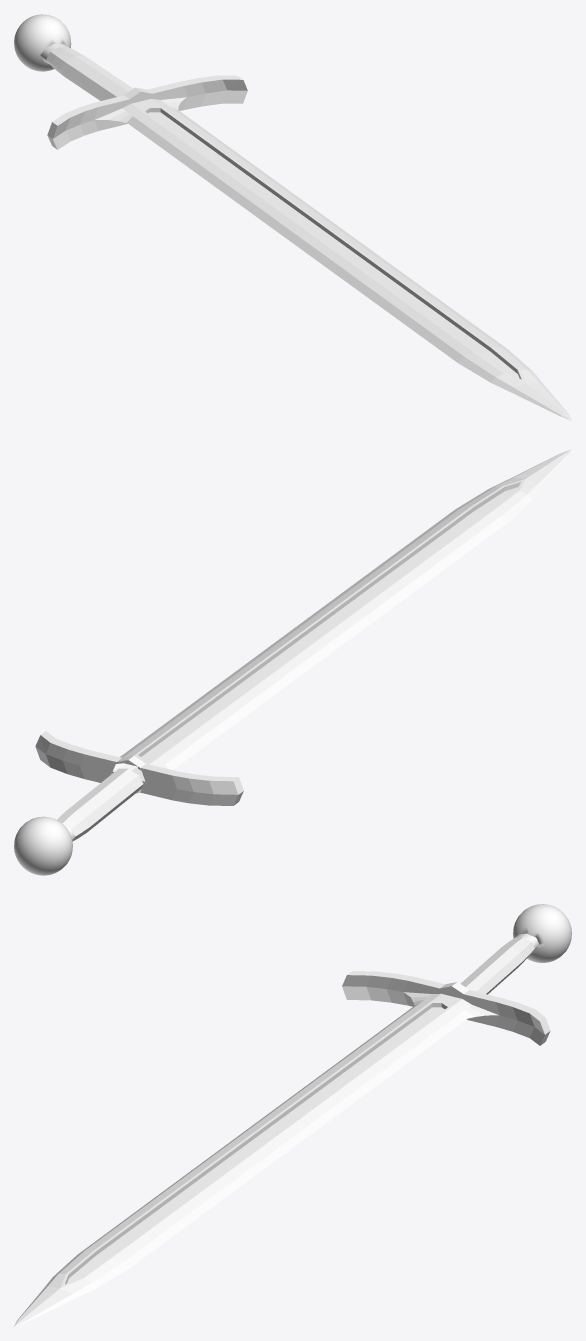
The model's file is Sword.obj.
3 views of the same model, one above another, from view 1: azimuth 30°, elevation 25°; view 2: azimuth 150°, elevation 25°; view 3: azimuth 330°, elevation 25° (orthographic). The views are drawn at different scales.
Parts seen in each view (by area): view 1: Cylinder001; view 2: Cylinder001; view 3: Cylinder001.
Part boxes in pixels (box(x1,y1,x2,y2)): Cylinder001: box(14, 14, 571, 420); Cylinder001: box(14, 449, 571, 875); Cylinder001: box(14, 904, 571, 1326).
Bounding box in the file's own units: 0.2674 × 0.0678 × 1.26.
Materials: 1 (1 with a texture image).
